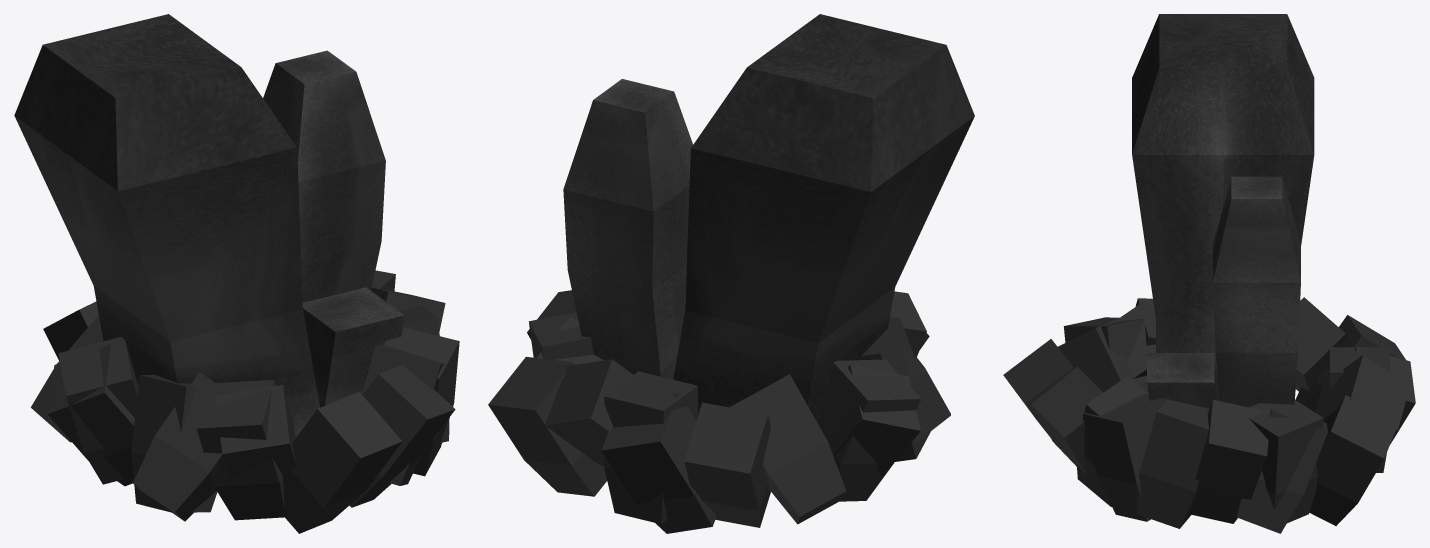
Rendered from Iron Ore.fbx.
The picture shows the model from 3 angles, left to right: view 1: azimuth 30°, elevation 25°; view 2: azimuth 150°, elevation 25°; view 3: azimuth 270°, elevation 25°; orthographic projection. The views are drawn at different scales.
Visible parts, largest first — view 1: Iron Ore, Iron Nest; view 2: Iron Ore, Iron Nest; view 3: Iron Ore, Iron Nest.
Part boxes in pixels (x1,y1,x2,y2): Iron Ore: (14, 14, 404, 437); Iron Nest: (31, 270, 459, 533); Iron Ore: (563, 14, 974, 422); Iron Nest: (488, 290, 950, 533); Iron Ore: (1132, 14, 1314, 408); Iron Nest: (1003, 297, 1415, 533).
Bounding box in the file's own units: 110 × 123 × 118.
